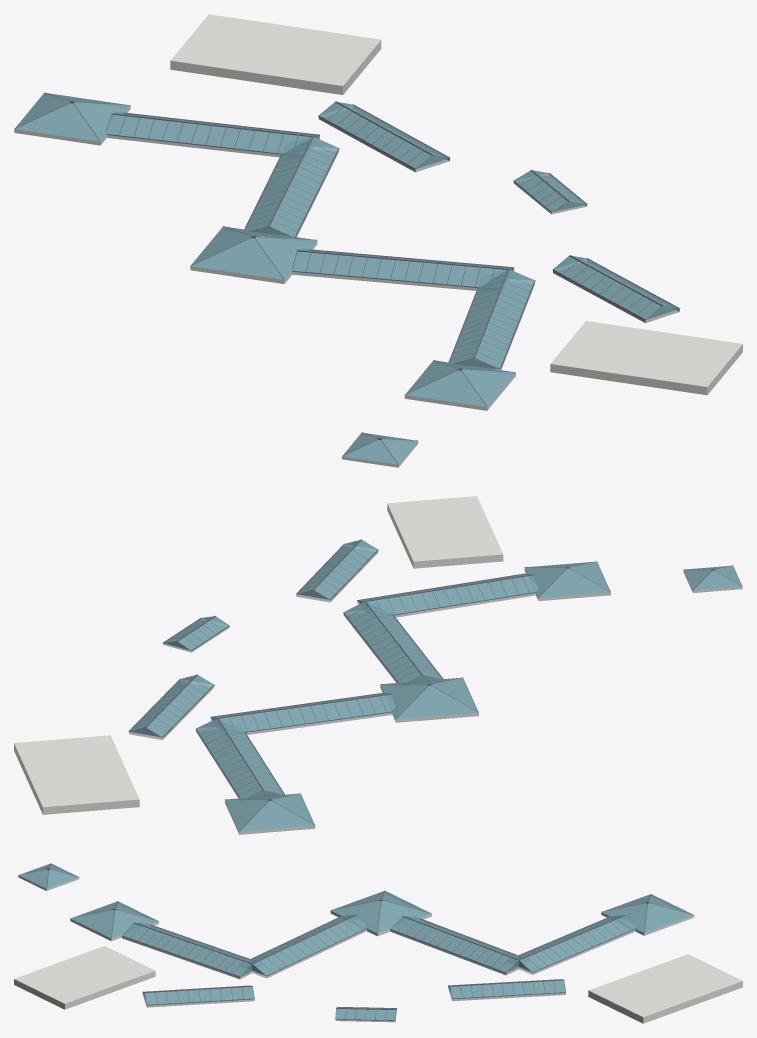
File: unicentro_cubierta.glb
3 renders of one model, top to bottom at view 1: azimuth 30°, elevation 25°; view 2: azimuth 150°, elevation 25°; view 3: azimuth 270°, elevation 25°, orthographic. The views are drawn at different scales.
Visible parts, largest first — view 1: Cubierta_Unicentro; view 2: Cubierta_Unicentro; view 3: Cubierta_Unicentro.
Boxes of the visible parts, box(x1,y1,x2,y2) form: Cubierta_Unicentro: box(14, 14, 742, 467); Cubierta_Unicentro: box(14, 496, 742, 834); Cubierta_Unicentro: box(14, 863, 742, 1023).
Bounding box in the file's own units: 125 × 5.65 × 243.
